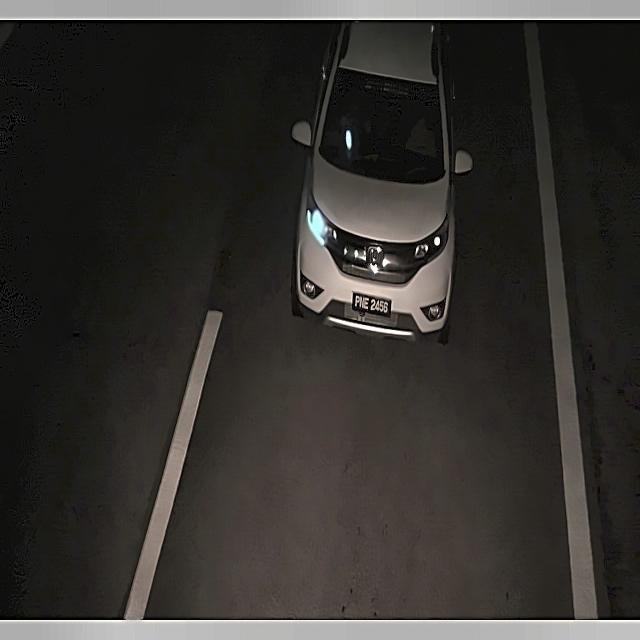car: (348, 286, 395, 321)
